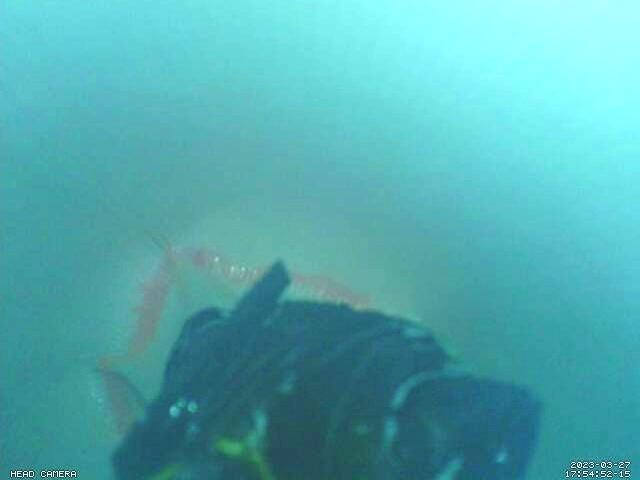head: (96, 238, 365, 433)
